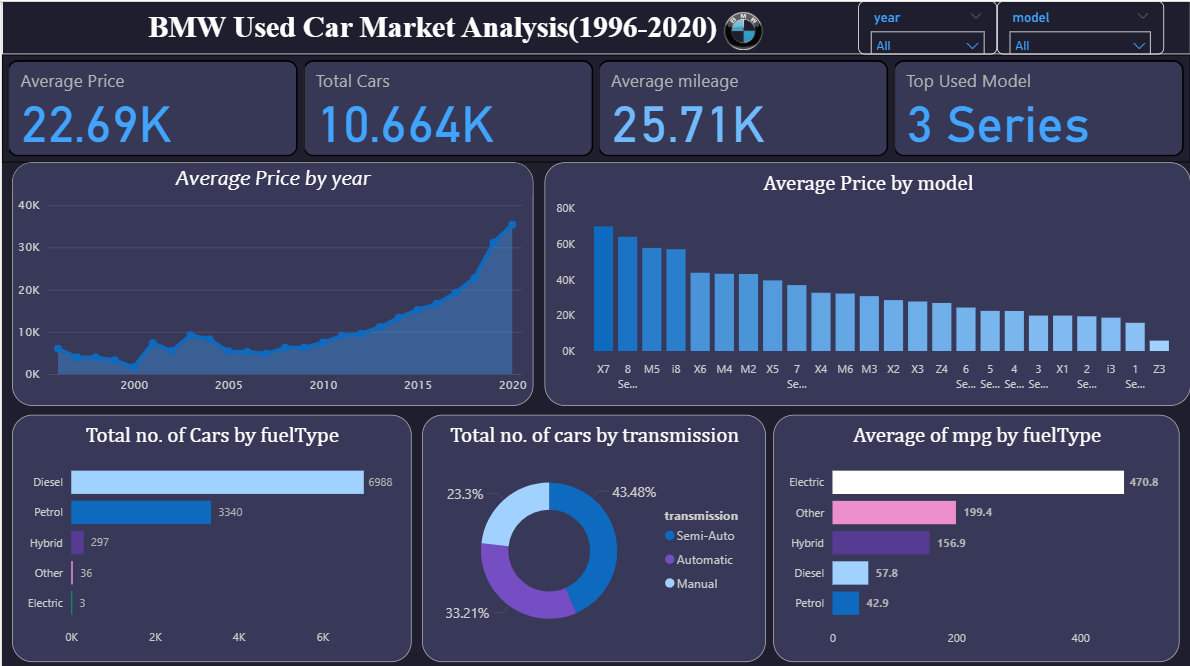

The dashboard page shown, as its layout file describes it:
{"tool":"powerbi","page":{"name":"Page 1","canvas":[1280,720],"ordinal":0},"visuals":[{"type":"shape","box":[0,0,1280.3,57.6],"z":0},{"type":"textbox","box":[27.7,3.6,871.1,54.3],"z":1000},{"type":"cardVisual","fields":{"Data":["bmw.Average Price","CountNonNull(bmw.model)","bmw.Average mileage","bmw.Top Model"]},"box":[0,57.5,1280,116.2],"z":2000},{"type":"lineChart","fields":{"Y":["bmw.Average Price"],"Category":["bmw.year"]},"box":[11.2,173.8,561.2,262.5],"z":3000},{"type":"barChart","title":" Total no. of Cars by fuelType","fields":{"Category":["bmw.fuelType"],"Y":["CountNonNull(bmw.model)"]},"box":[11.2,445,430,266.2],"z":4000},{"type":"image","box":[756.4,0,84.5,63.9],"z":5000},{"type":"donutChart","title":"Total no. of cars by transmission","fields":{"Category":["bmw.transmission"],"Y":["bmw.TotalCars"]},"box":[452.4,445.2,370.4,266.6],"z":6000},{"type":"barChart","fields":{"Category":["bmw.fuelType"],"Y":["Avg(bmw.mpg)"]},"box":[831.2,445.2,437.9,266.6],"z":7000},{"type":"clusteredColumnChart","fields":{"Category":["bmw.model"],"Y":["bmw.Average Price"]},"box":[583.8,173.8,696.2,262.5],"z":8000},{"type":"slicer","fields":{"Values":["bmw.year"]},"box":[922.1,0,149.6,57.6],"z":9000},{"type":"slicer","fields":{"Values":["bmw.model"]},"box":[1071.7,0,179.8,57.6],"z":10000}]}

Visuals, with their boxes in screenshot pixels (x1, y1, x2, y2), scaled from the page's 1280x720 canvas onto the 1190x666 screenshot:
shape: box(0, 0, 1189, 53)
textbox: box(26, 3, 836, 54)
cardVisual - bmw.Average Price x CountNonNull(bmw.model): box(0, 53, 1189, 161)
lineChart - bmw.Average Price x bmw.year: box(10, 161, 532, 404)
" Total no. of Cars by fuelType" barChart: box(10, 412, 410, 658)
image: box(703, 0, 782, 59)
"Total no. of cars by transmission" donutChart: box(421, 412, 765, 658)
barChart - bmw.fuelType x Avg(bmw.mpg): box(773, 412, 1180, 658)
clusteredColumnChart - bmw.model x bmw.Average Price: box(543, 161, 1189, 404)
slicer - bmw.year: box(857, 0, 996, 53)
slicer - bmw.model: box(996, 0, 1164, 53)
